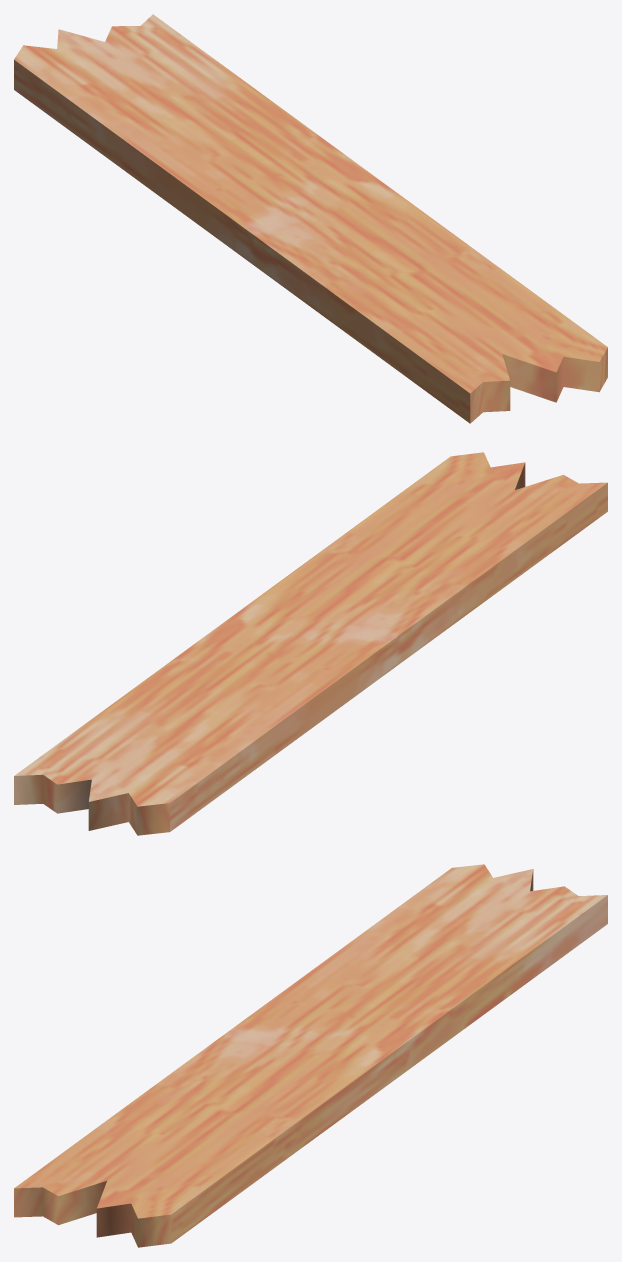
Rendered from Wood_Plank_Asset.fbx.
3 renders of one model, top to bottom at view 1: azimuth 30°, elevation 25°; view 2: azimuth 150°, elevation 25°; view 3: azimuth 330°, elevation 25°, orthographic. The views are drawn at different scales.
Visible parts, largest first — view 1: Wood_Plank; view 2: Wood_Plank; view 3: Wood_Plank.
Part boxes in pixels (bbox=[...]): Wood_Plank: bbox=[14, 14, 607, 423]; Wood_Plank: bbox=[14, 452, 607, 835]; Wood_Plank: bbox=[14, 864, 607, 1247].
Size of the model in its own units: 25.54 by 4.9 by 140.
